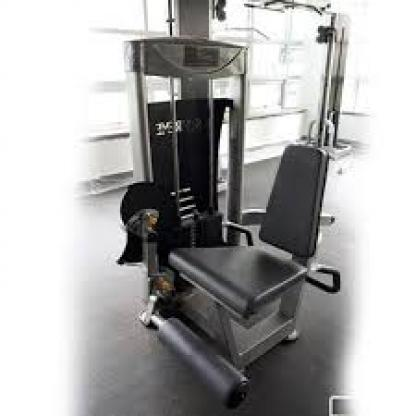leg extension: (101, 0, 371, 409)
